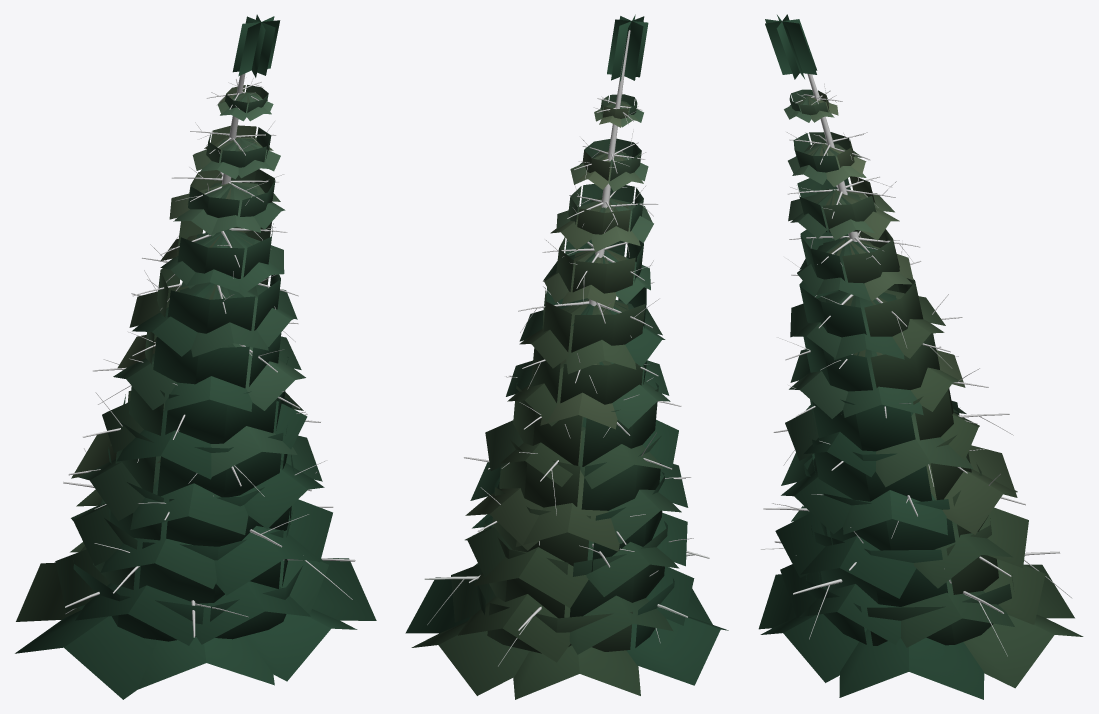
File: spruce_b.glb
The picture shows the model from 3 angles, left to right: view 1: azimuth 30°, elevation 25°; view 2: azimuth 150°, elevation 25°; view 3: azimuth 270°, elevation 25°; orthographic projection. The views are drawn at different scales.
Parts seen in each view (by area): view 1: isl_spruce_b; view 2: isl_spruce_b; view 3: isl_spruce_b.
Boxes of the visible parts, x1,y1,x2,y2 form: isl_spruce_b: (15,14,376,699); isl_spruce_b: (405,14,728,699); isl_spruce_b: (758,14,1083,699).
Size of the model in its own units: 5.37 by 10.69 by 5.17.
